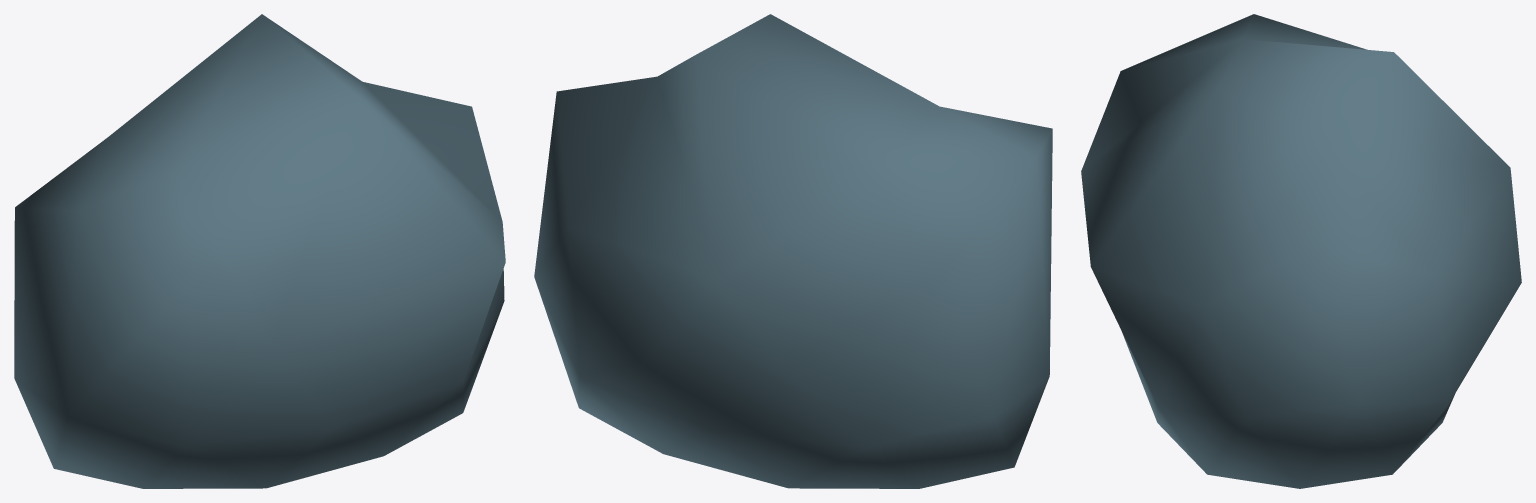
The model's file is rock-002.gltf.
3 views of the same model, side by side, from view 1: azimuth 30°, elevation 25°; view 2: azimuth 150°, elevation 25°; view 3: azimuth 270°, elevation 25° (orthographic). The views are drawn at different scales.
Visible parts, largest first — view 1: Cylinder.001; view 2: Cylinder.001; view 3: Cylinder.001.
Part boxes in pixels (box(x1,y1,x2,y2)): Cylinder.001: box(14, 14, 505, 488); Cylinder.001: box(534, 14, 1052, 488); Cylinder.001: box(1081, 14, 1521, 488).
Bounding box in the file's own units: 2.91 × 2.3 × 2.5.
